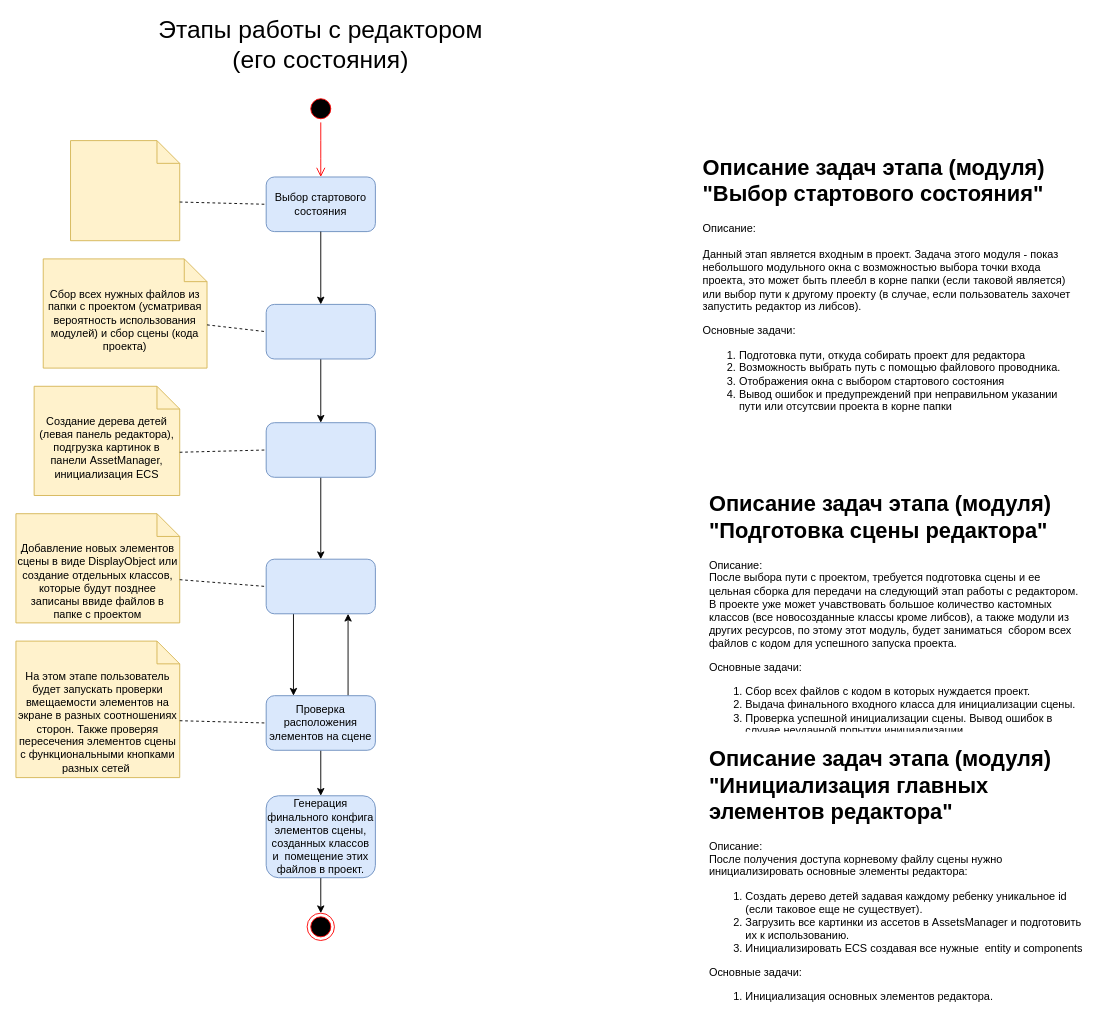
The diagram is 1103 pixels wide and 1030 high, and some of its shapes have lost their labels. Each missing label, with the centre of its shape:
Инициализация главных элементов редактора: the point at 320,449
Подготовка сцены для редактора: the point at 320,331
Работа с редактором: the point at 320,586
Указание пути к проекту или выбор проекта в корне папки: the point at 125,190
